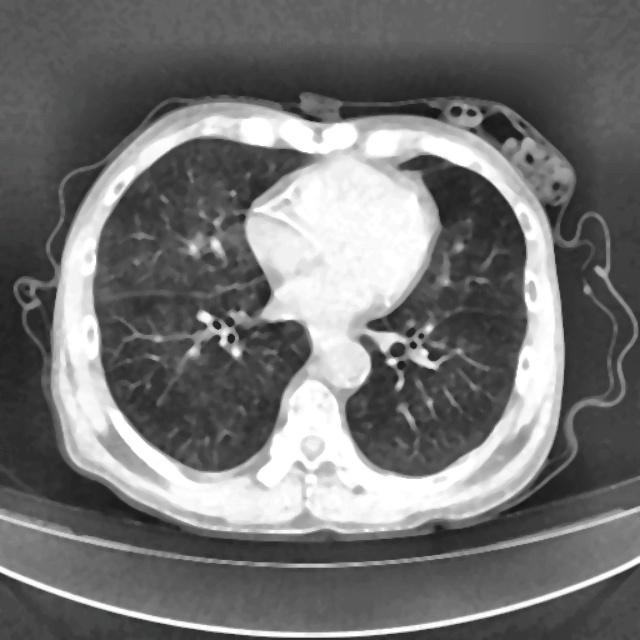covid: (21, 93, 602, 542)
